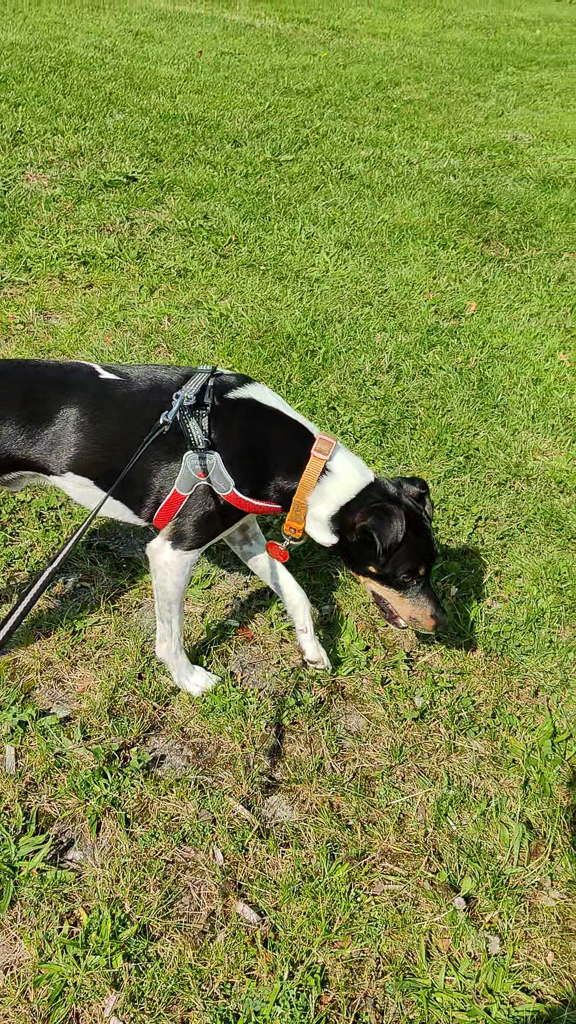Dog: (0, 340, 469, 709)
